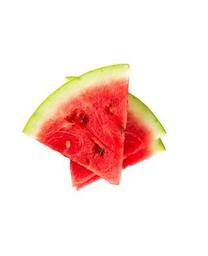watermelon: (21, 61, 168, 188)
